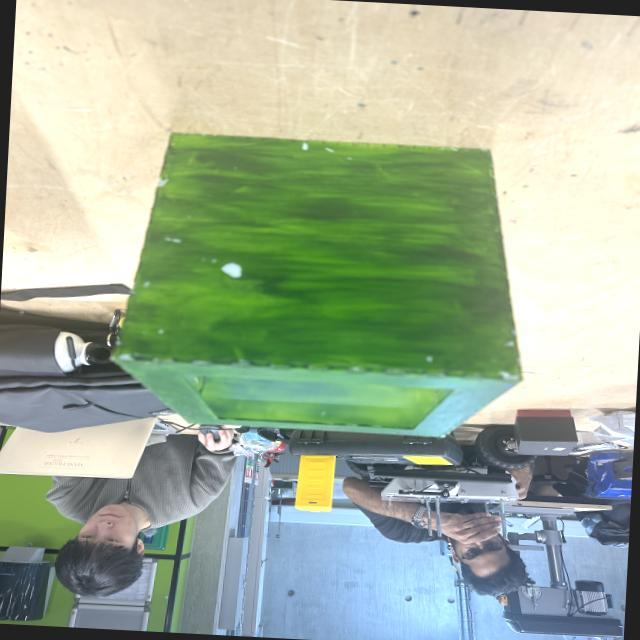green_bin: (108, 130, 535, 444)
